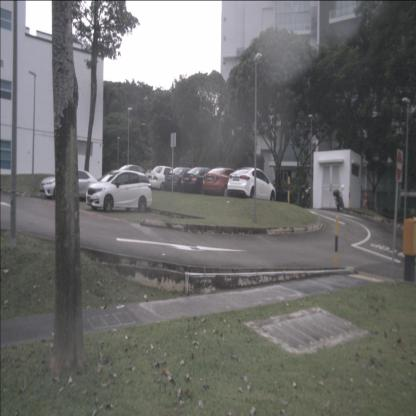vehicle-car: (86, 169, 152, 213), (40, 170, 99, 203), (227, 168, 276, 202), (203, 168, 246, 198), (180, 167, 220, 195), (144, 166, 184, 192), (112, 164, 146, 193), (165, 168, 204, 192)
vehicle-motorcycle: (333, 187, 346, 211), (302, 181, 310, 209)
